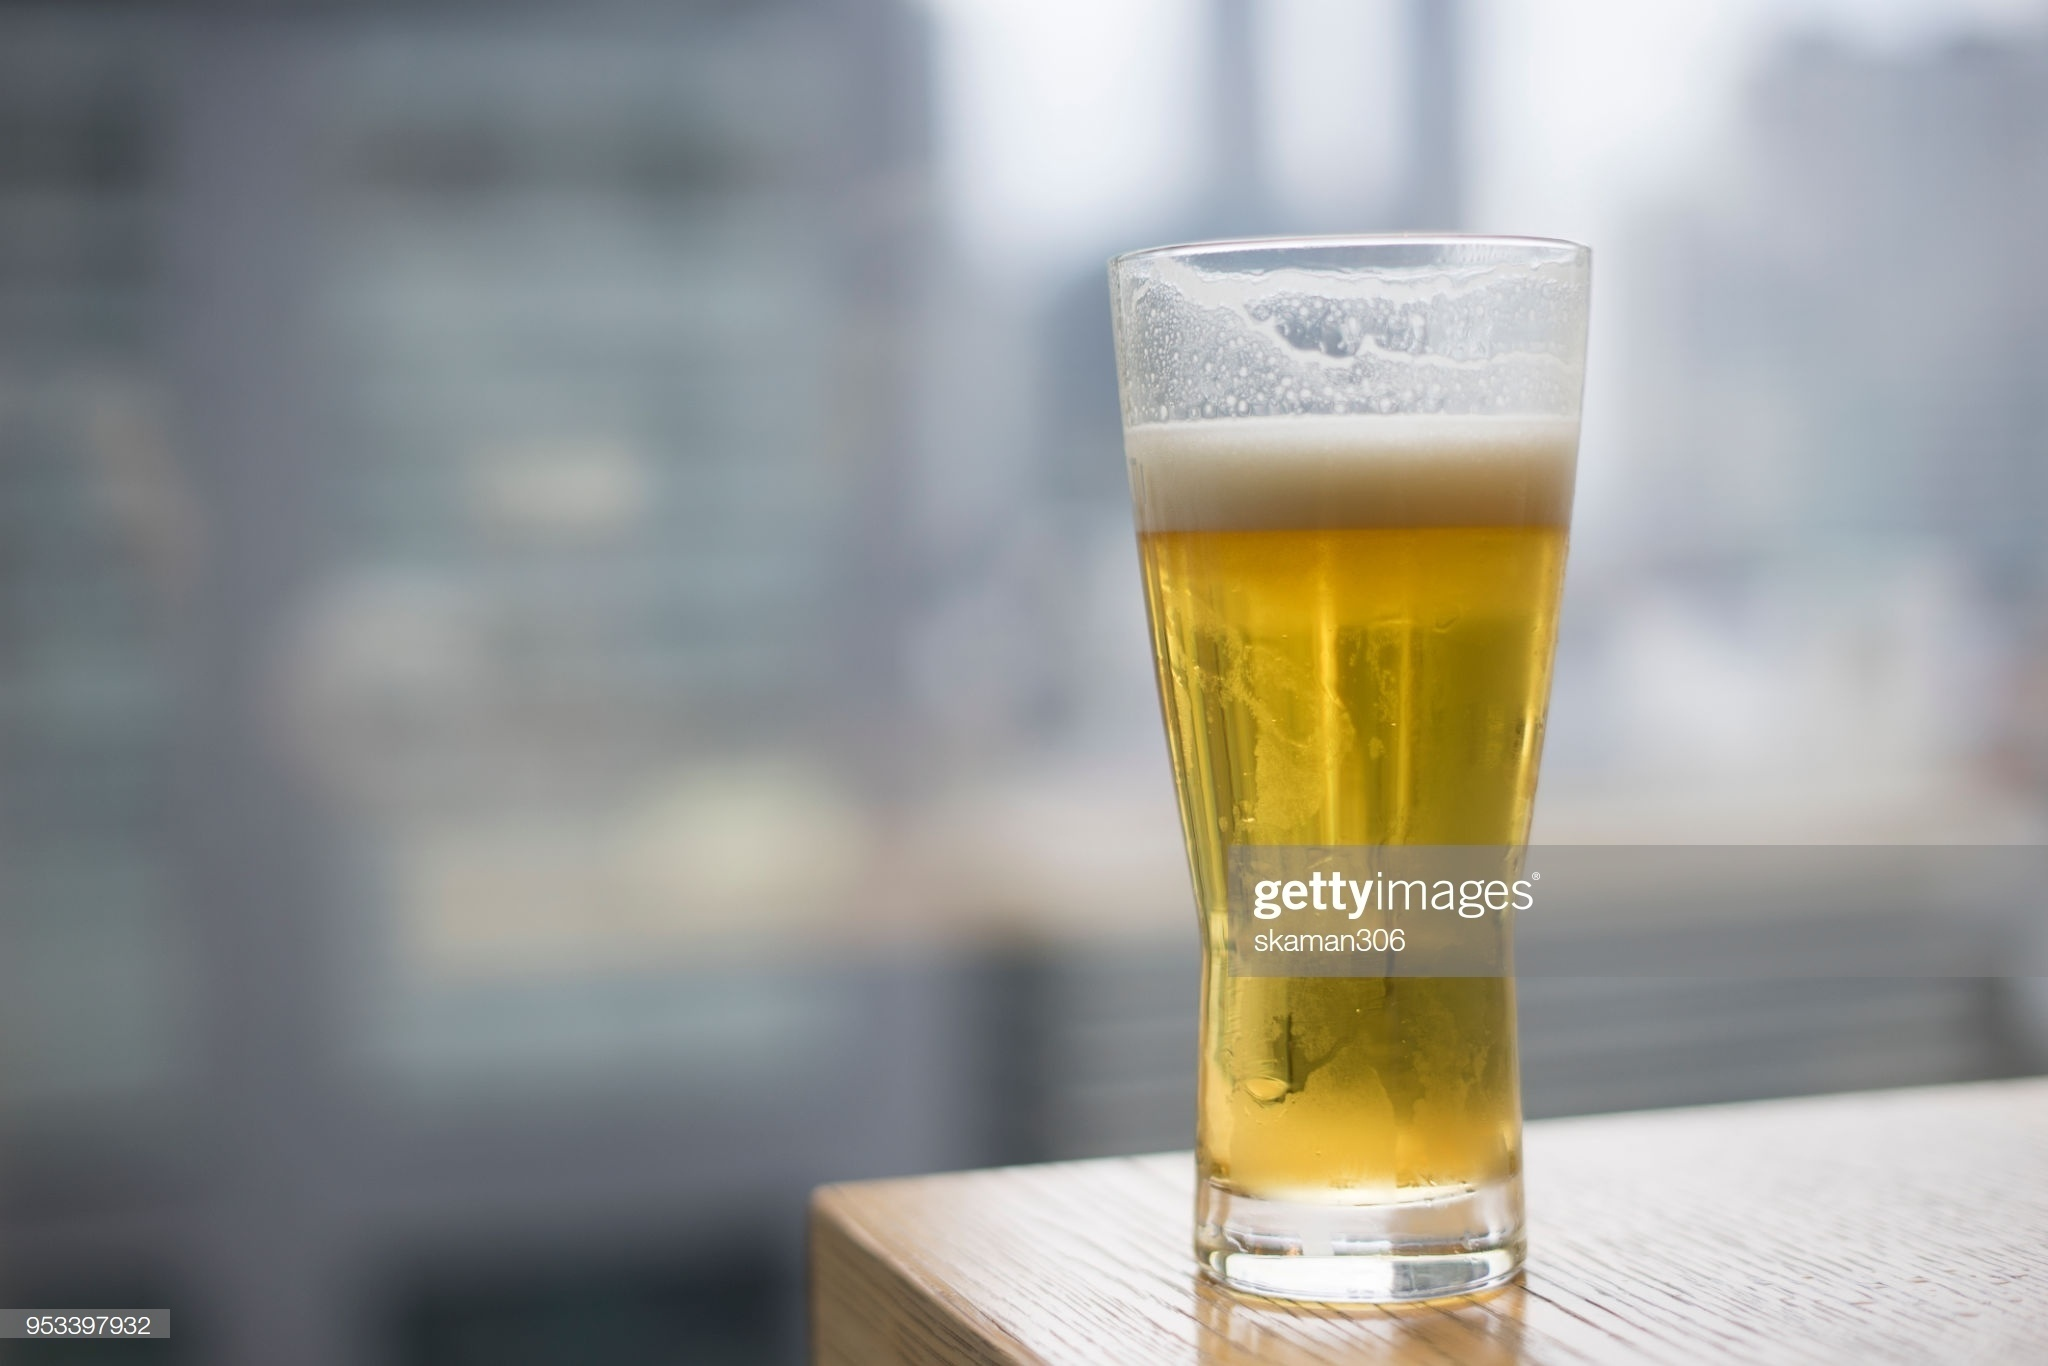whiskey: (1102, 238, 1614, 1326)
